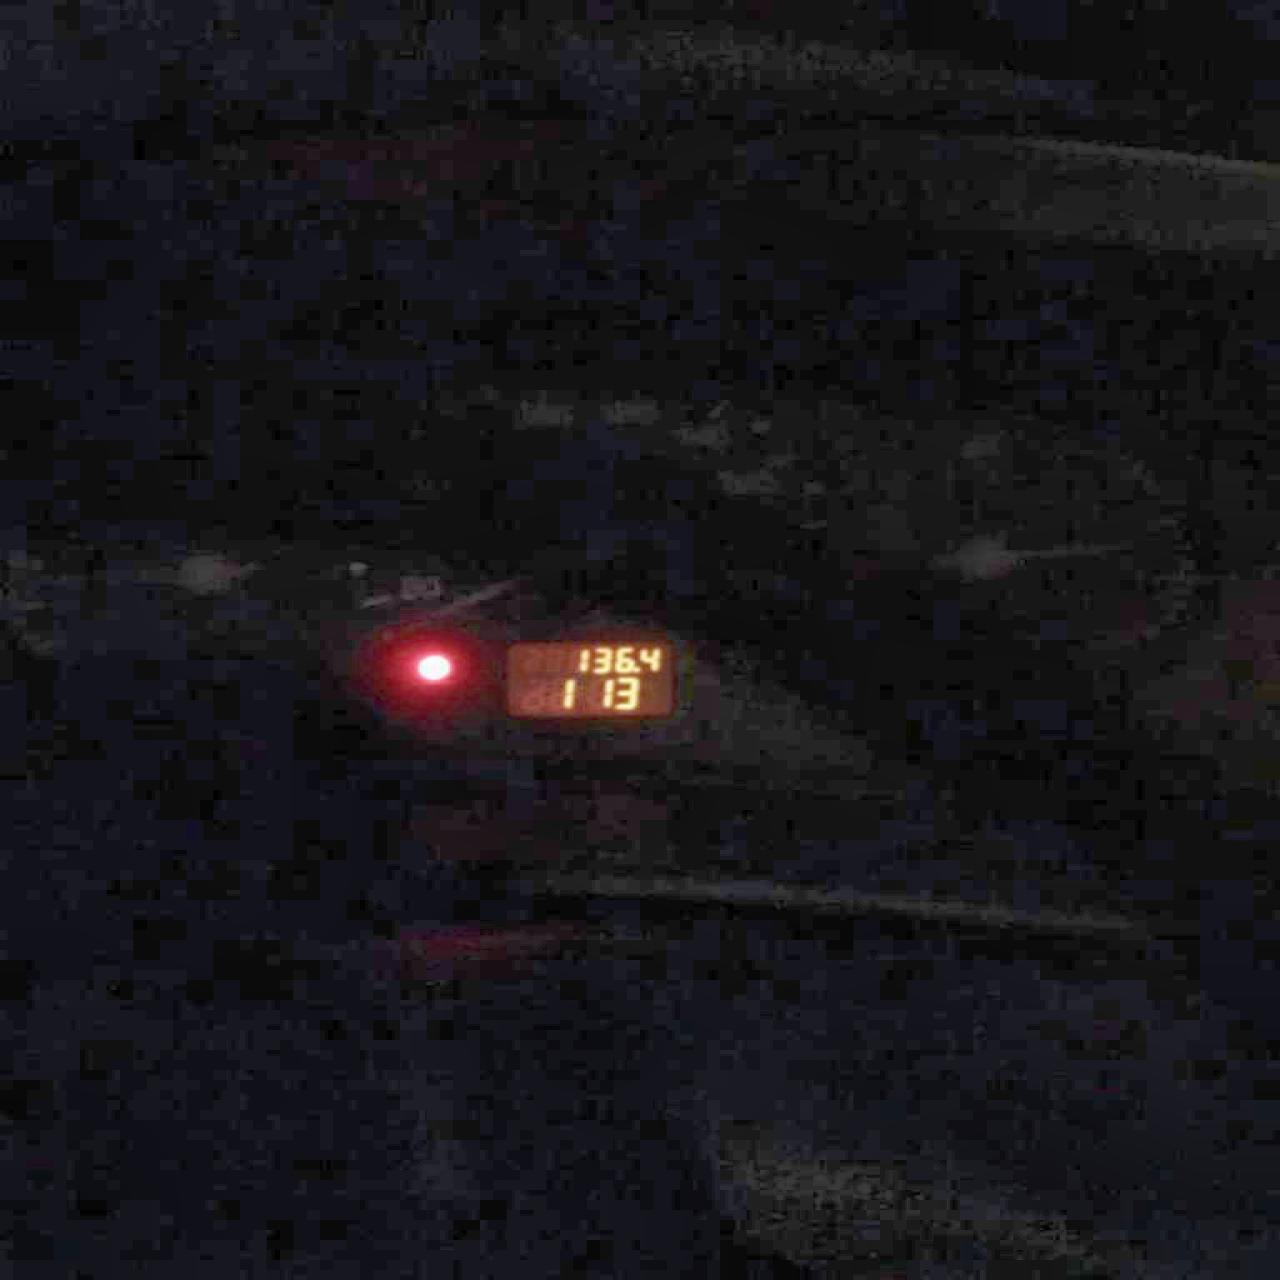-: (632, 666, 639, 673)
1: (558, 676, 577, 709), (599, 676, 613, 708), (576, 645, 590, 670)
3: (615, 675, 636, 709), (592, 645, 611, 673)
4: (639, 645, 660, 670)
6: (612, 645, 633, 673)
odometer: (497, 636, 679, 720)
